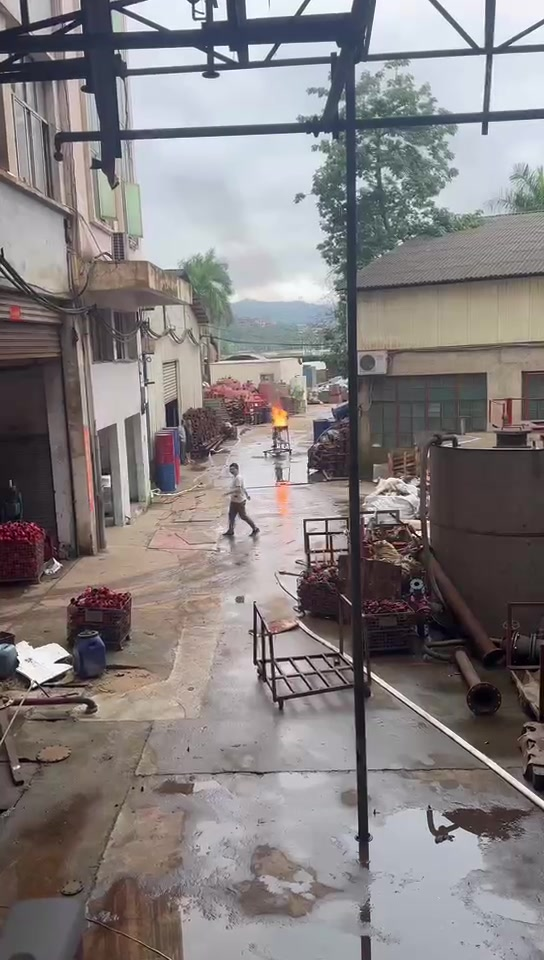fire: (271, 403, 287, 426)
